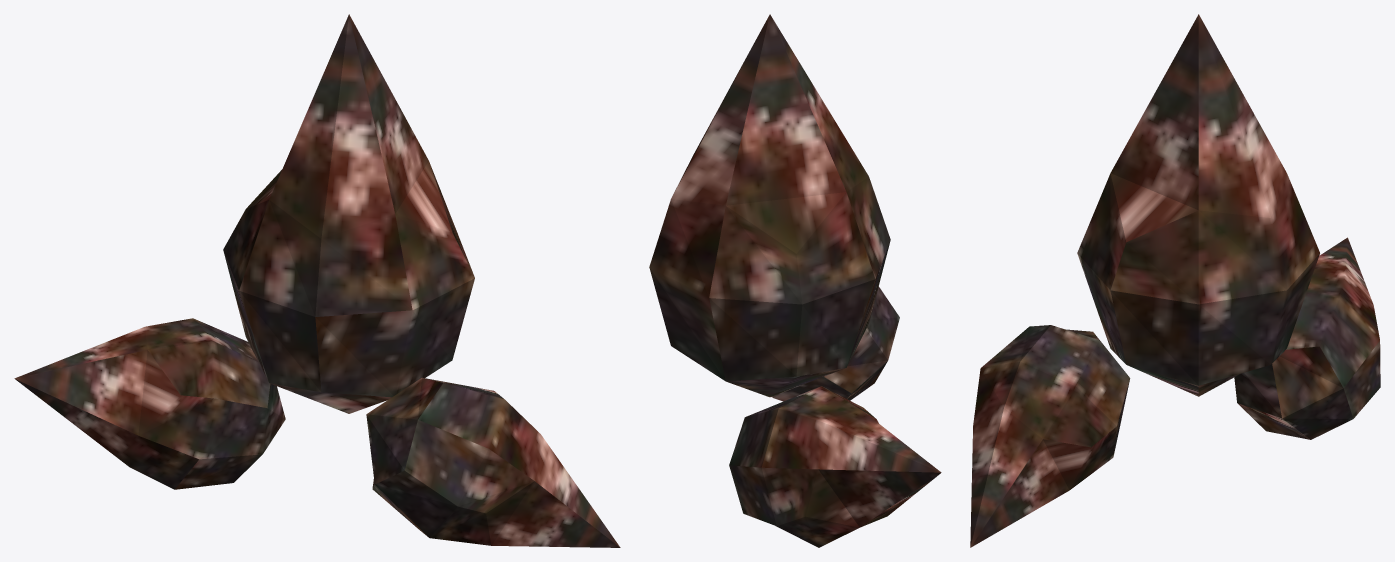
File: NASIONO12.glb
The picture shows the model from 3 angles, left to right: view 1: azimuth 30°, elevation 25°; view 2: azimuth 150°, elevation 25°; view 3: azimuth 270°, elevation 25°; orthographic projection. The views are drawn at different scales.
Parts seen in each view (by area): view 1: NASIONO12; view 2: NASIONO12; view 3: NASIONO12.
Boxes of the visible parts, x1,y1,x2,y2 form: NASIONO12: (14, 14, 620, 547); NASIONO12: (649, 14, 941, 547); NASIONO12: (970, 14, 1380, 547).
Size of the model in its own units: 0.0991 by 0.1119 by 0.0899.
1 material, 1 textured.
